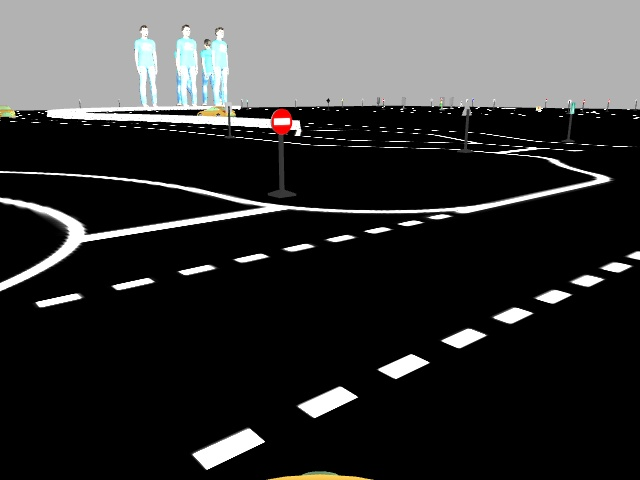NoEntry: (264, 107, 294, 135)
